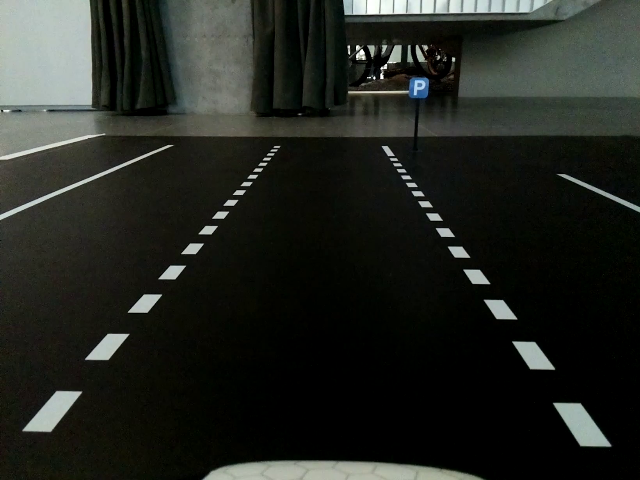park: (411, 79, 428, 98)
